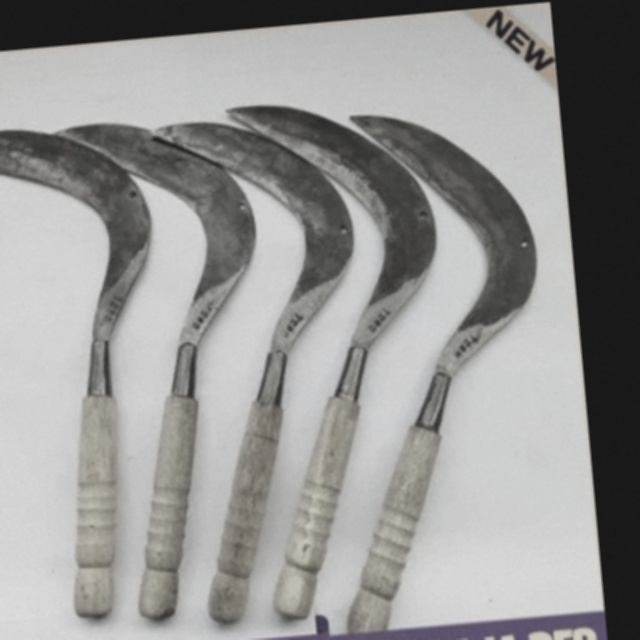Sharp-Object: (299, 91, 589, 640), (224, 85, 473, 630), (0, 85, 182, 638)
